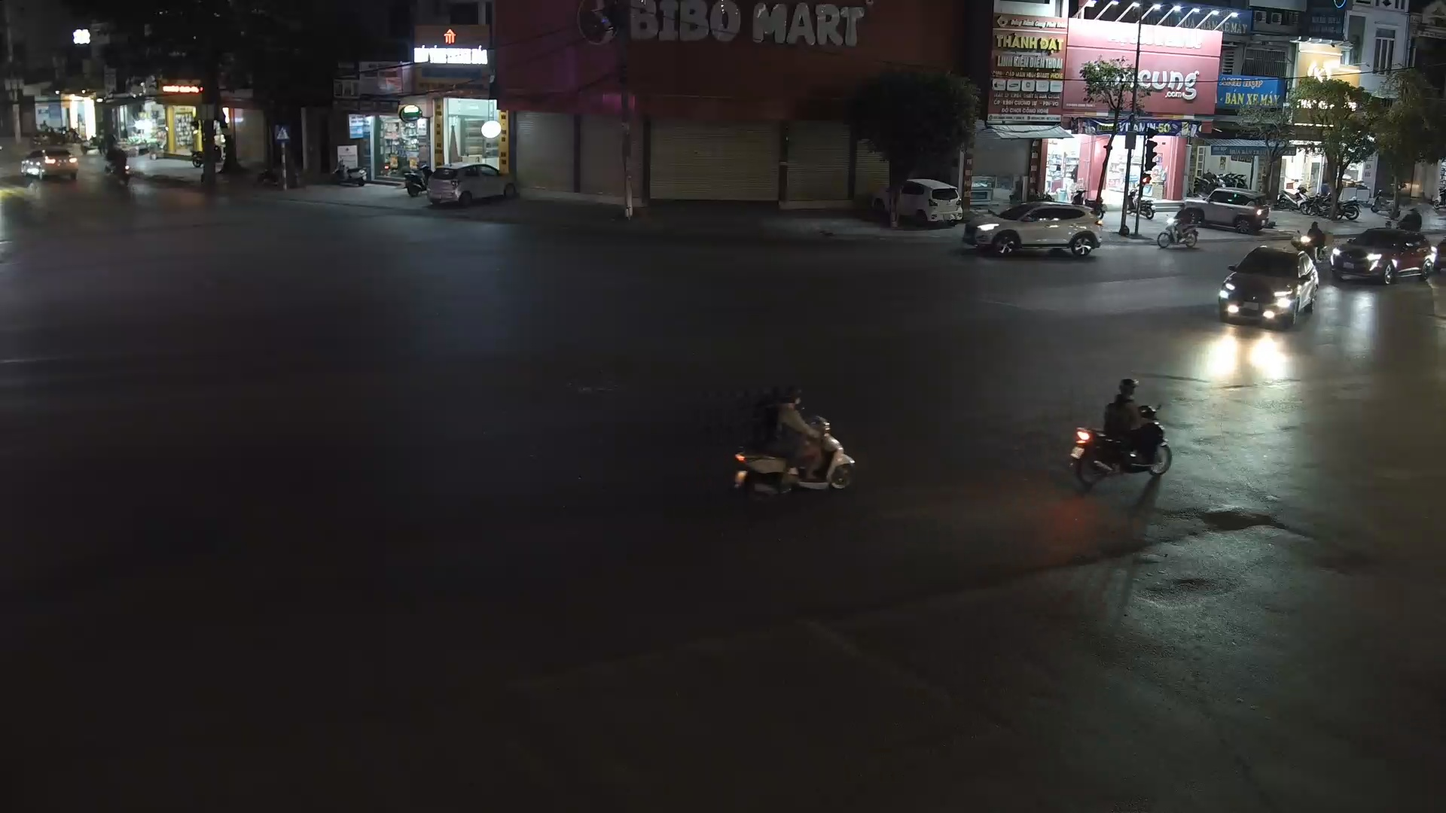car: (1216, 239, 1320, 331), (963, 200, 1105, 261), (1327, 224, 1441, 288), (890, 176, 963, 230)
motorbike: (730, 381, 858, 503), (1066, 375, 1174, 498)
